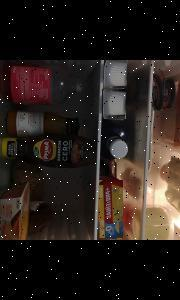Yogur: (98, 180, 121, 238), (101, 89, 125, 119), (103, 60, 126, 88), (152, 71, 162, 111)
